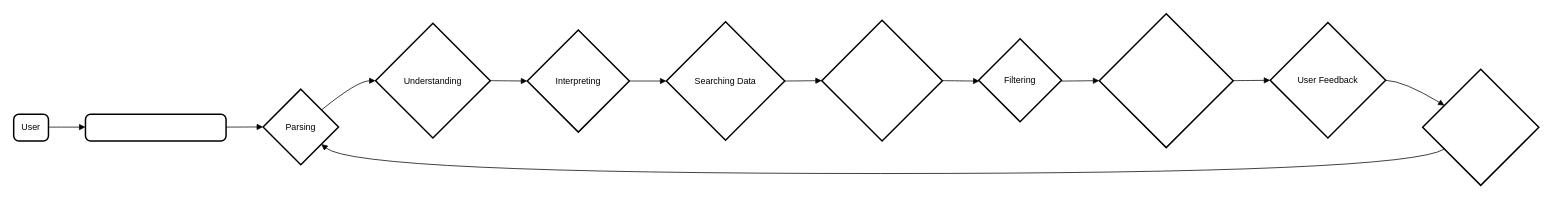
The diagram is 1552 pixels wide and 198 high, and some of its shapes have lost their labels. The shapes that lost their labels are listed below. From the top down, each one's centre as x and y in pixels, then its label:
At pixel 882 80: "Ranking Results".
At pixel 1166 80: "Presenting Results".
At pixel 155 127: "Natural Language Query".
At pixel 1480 127: "Refining Query".
